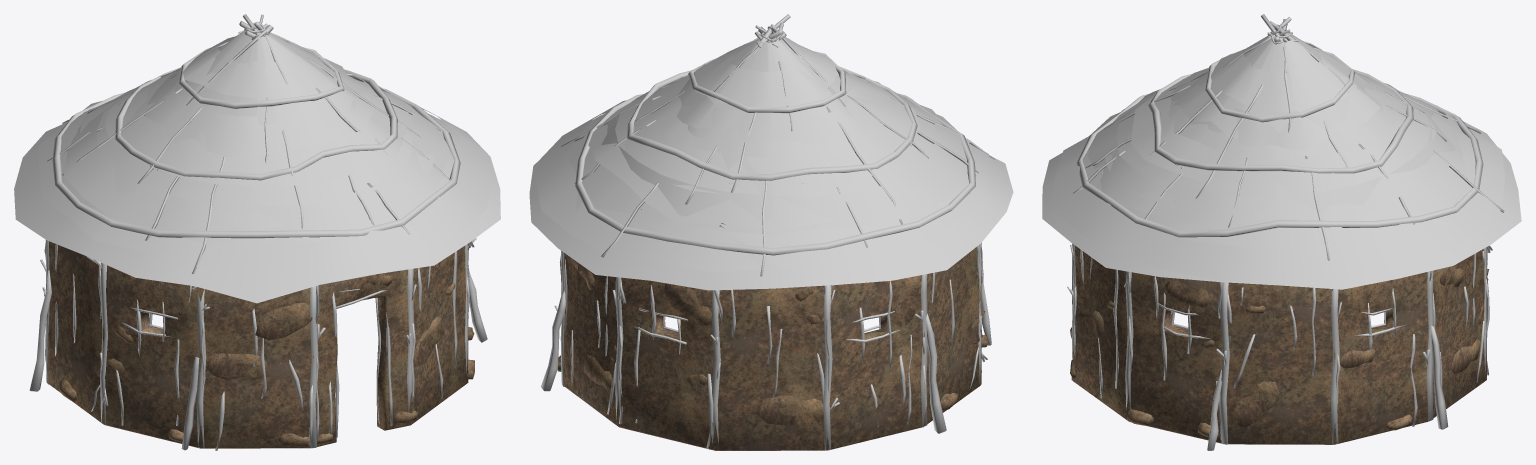
Rendered from lowpoly_african_hut_002.obj.
3 renders of one model, left to right at view 1: azimuth 30°, elevation 25°; view 2: azimuth 150°, elevation 25°; view 3: azimuth 270°, elevation 25°, orthographic.
Parts seen in each view (by area): view 1: lowpoly_african_hut_002; view 2: lowpoly_african_hut_002; view 3: lowpoly_african_hut_002.
Boxes of the visible parts, x1,y1,x2,y2 form: lowpoly_african_hut_002: [14, 14, 500, 450]; lowpoly_african_hut_002: [529, 14, 1013, 450]; lowpoly_african_hut_002: [1042, 14, 1521, 450].
Size of the model in its own units: 4.56 by 3.61 by 4.58.
